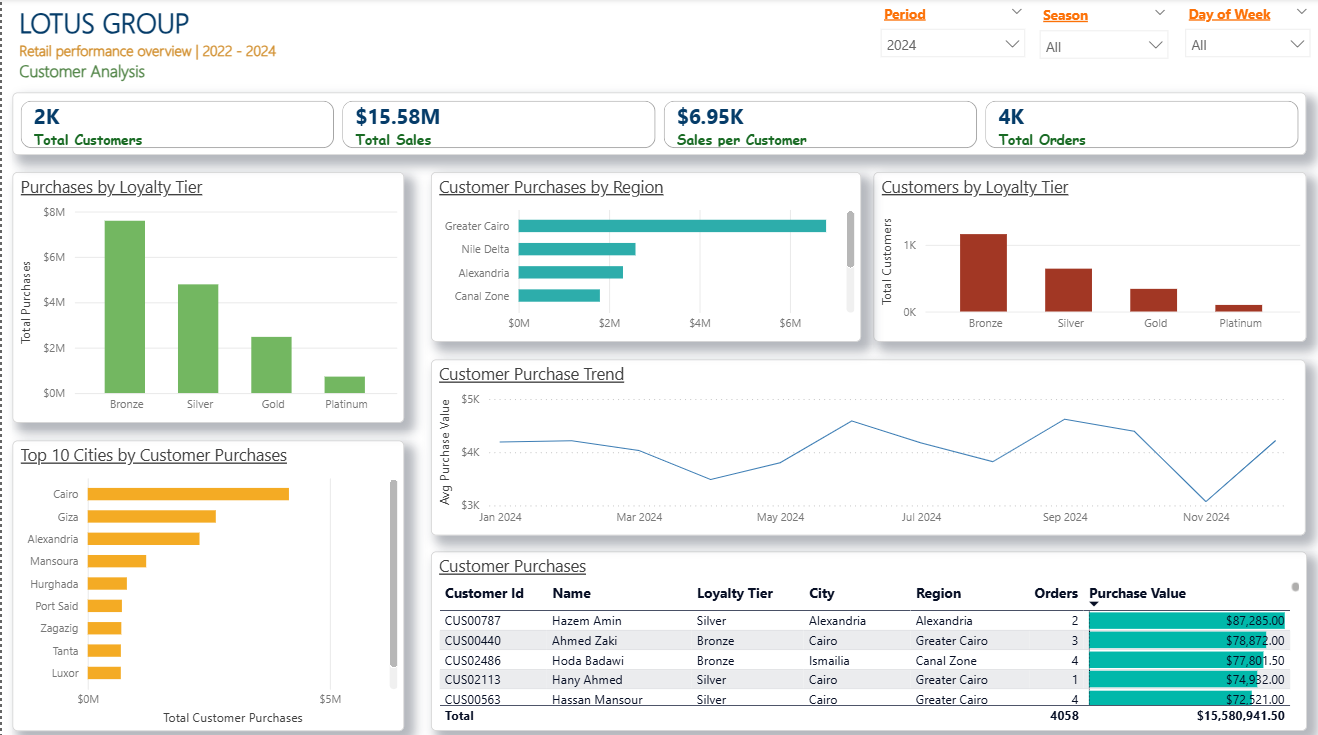

This screenshot's page, from the dashboard's own definition file:
{"tool":"powerbi","page":{"name":"Customer Analysis","canvas":[1280,720],"ordinal":3},"visuals":[{"type":"textbox","box":[11.9,0,311.9,87.6],"z":0},{"type":"slicer","fields":{"Values":["dim_date.full_date.Variation.Date Hierarchy.Year","dim_date.full_date.Variation.Date Hierarchy.Quarter","dim_date.full_date.Variation.Date Hierarchy.Month","dim_date.full_date.Variation.Date Hierarchy.Day"]},"box":[842.4,0,160,60],"z":1000},{"type":"cardVisual","fields":{"Data":["_Measures.Total Customers","_Measures.Total Sales","_Measures.Sales per Customer","_Measures.Total Orders"]},"box":[10.4,92,1255.1,60.8],"z":2000},{"type":"clusteredColumnChart","title":"Purchases by Loyalty Tier","fields":{"Y":["_Measures.Total Sales"],"Category":["dim_customers.loyalty_tier"]},"box":[10.9,169,380,243.5],"z":3000},{"type":"clusteredColumnChart","title":"Customers by Loyalty Tier","fields":{"Category":["dim_customers.loyalty_tier"],"Y":["_Measures.Total Customers"]},"box":[845.2,169,420.3,164.4],"z":4000},{"type":"clusteredBarChart","title":"Customer Purchases by Region","fields":{"Y":["_Measures.Total Sales"],"Category":["dim_customers.region"]},"box":[415.6,169,417.2,164.4],"z":5000},{"type":"clusteredBarChart","title":"Top 10 Cities by Customer Purchases","fields":{"Category":["dim_customers.city"],"Y":["_Measures.Total Sales"]},"box":[10.9,429.6,380,282.3],"z":6000},{"type":"tableEx","title":"Customer Purchases","fields":{"Values":["dim_customers.customer_id","dim_customers.full_name","dim_customers.loyalty_tier","dim_customers.city","dim_customers.region","_Measures.Total Orders","_Measures.Total Sales"]},"box":[415.6,536.6,849.9,173.7],"z":7000},{"type":"lineChart","title":"Customer Purchase Trend","fields":{"Y":["_Measures.Sales per Customer"],"Category":["dim_date.full_date.Variation.Date Hierarchy.Year","dim_date.full_date.Variation.Date Hierarchy.Quarter","dim_date.full_date.Variation.Date Hierarchy.Month"]},"box":[415.6,350.5,848.3,170.6],"z":8000},{"type":"slicer","fields":{"Values":["dim_date.Day Type"]},"box":[1138.4,0,141.1,60.5],"z":9000},{"type":"slicer","fields":{"Values":["dim_date.Period Type"]},"box":[996.5,1.2,144.7,58.8],"z":10000}]}

Visuals, with their boxes in screenshot pixels (x1, y1, x2, y2), scaled from the page's 1280x720 canvas onto the 1318x735 screenshot:
textbox: (left=12, top=0, right=333, bottom=89)
slicer - dim_date.full_date.Variation.Date Hierarchy.Year x dim_date.full_date.Variation.Date Hierarchy.Quarter: (left=867, top=0, right=1032, bottom=61)
cardVisual - _Measures.Total Customers x _Measures.Total Sales: (left=11, top=94, right=1303, bottom=156)
"Purchases by Loyalty Tier" clusteredColumnChart: (left=11, top=173, right=403, bottom=421)
"Customers by Loyalty Tier" clusteredColumnChart: (left=870, top=173, right=1303, bottom=340)
"Customer Purchases by Region" clusteredBarChart: (left=428, top=173, right=858, bottom=340)
"Top 10 Cities by Customer Purchases" clusteredBarChart: (left=11, top=439, right=403, bottom=727)
"Customer Purchases" tableEx: (left=428, top=548, right=1303, bottom=725)
"Customer Purchase Trend" lineChart: (left=428, top=358, right=1301, bottom=532)
slicer - dim_date.Day Type: (left=1172, top=0, right=1317, bottom=62)
slicer - dim_date.Period Type: (left=1026, top=1, right=1175, bottom=61)
